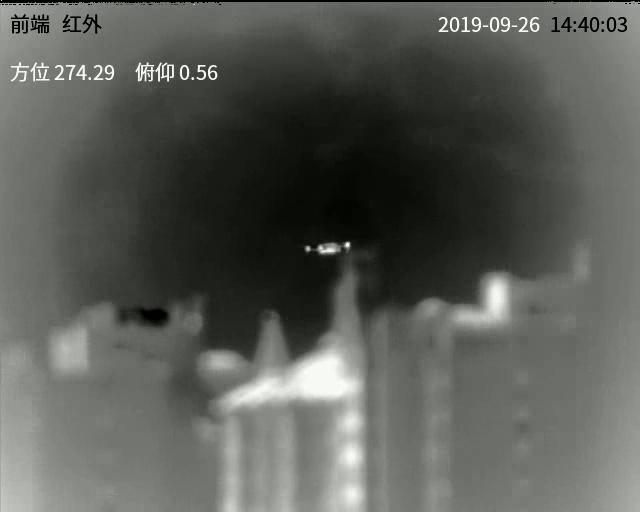DRONE: (303, 239, 351, 258)
